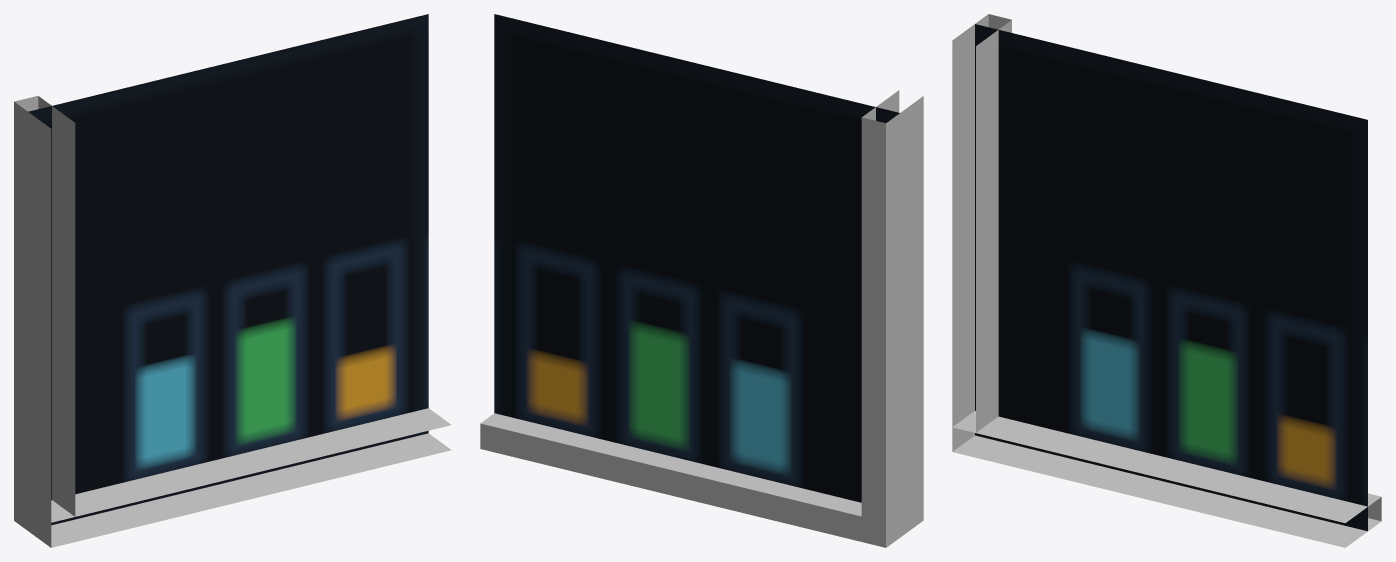
File: wall_display_3x2_00.obj
3 renders of one model, left to right at view 1: azimuth 30°, elevation 25°; view 2: azimuth 150°, elevation 25°; view 3: azimuth 330°, elevation 25°, orthographic. The views are drawn at different scales.
Visible parts, largest first — view 1: wall_display_3x2_00; view 2: wall_display_3x2_00; view 3: wall_display_3x2_00.
Boxes of the visible parts, x1,y1,x2,y2 form: wall_display_3x2_00: (14,14,451,547); wall_display_3x2_00: (480,14,923,547); wall_display_3x2_00: (952,14,1381,547).
Bounding box in the file's own units: 1 × 1 × 0.16.
